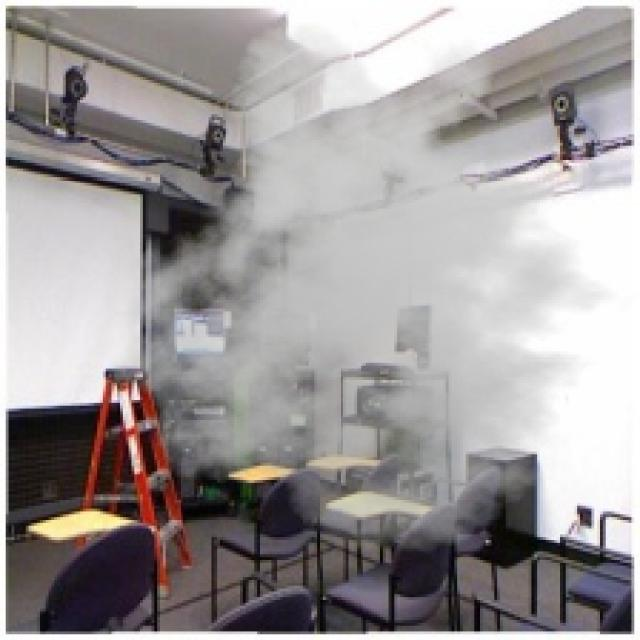smoke: (94, 20, 637, 557)
